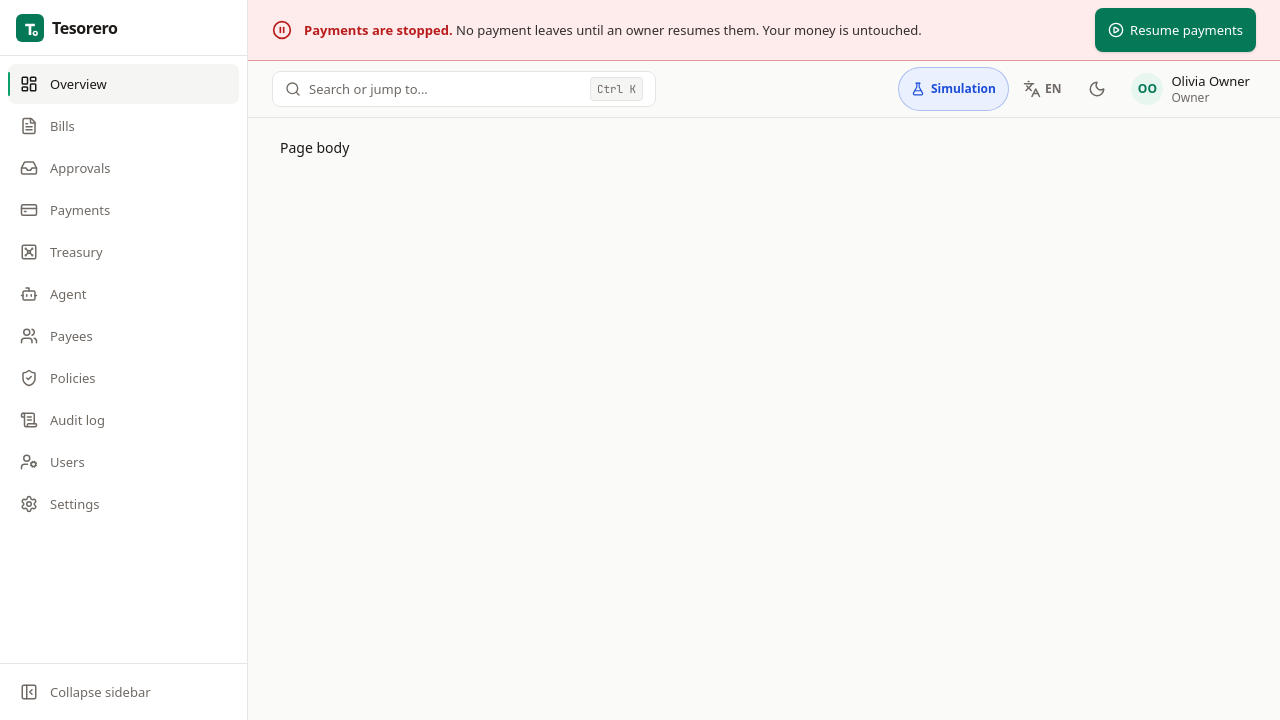
payments stopped banner › is shown everywhere while payments are stopped, with Resume for the Owner
Expected: the message with test id "payments-stopped-banner" shows "Payments are stopped.", [304, 21, 453, 39]
What coordinates should you click on to do the following:
click the button with test id "banner-resume-button"
I would click on:
 (1176, 30)
Its box is [1095, 8, 1256, 52].
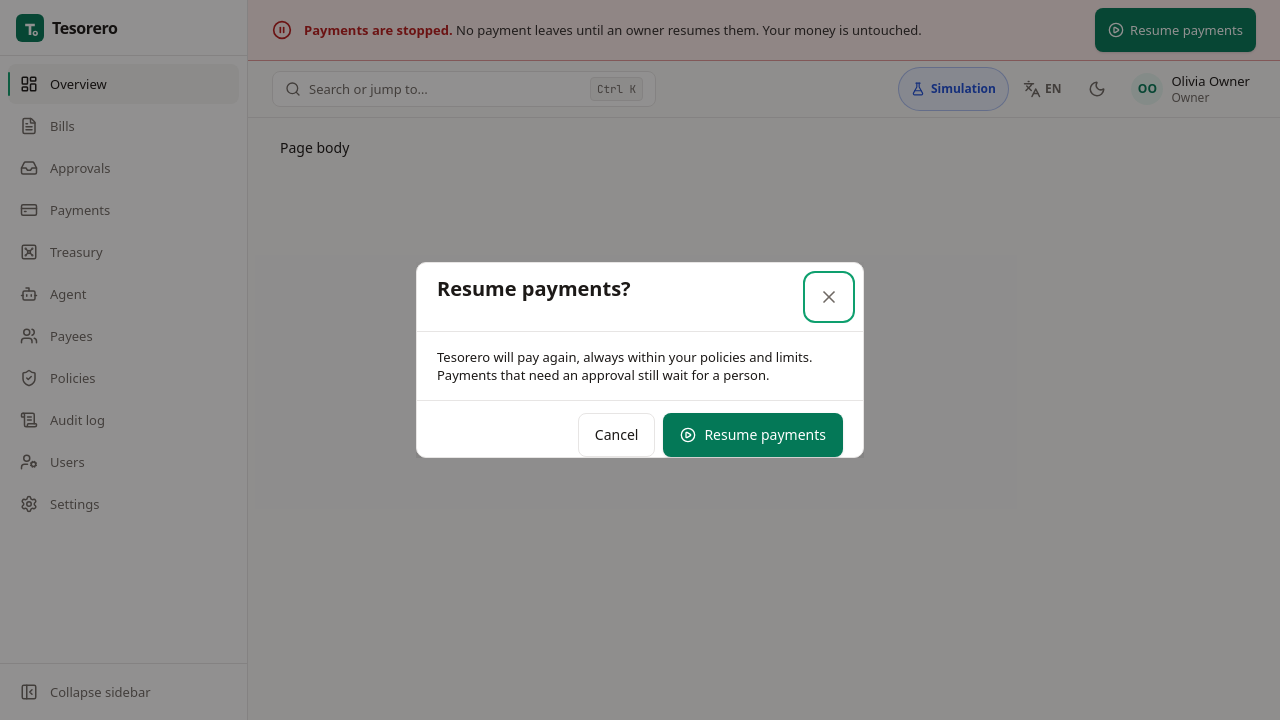
What coordinates should you click on to do the following:
click the button with test id "resume-payments-dialog-confirm"
I would click on:
 (753, 435)
Its box is [663, 413, 843, 457].
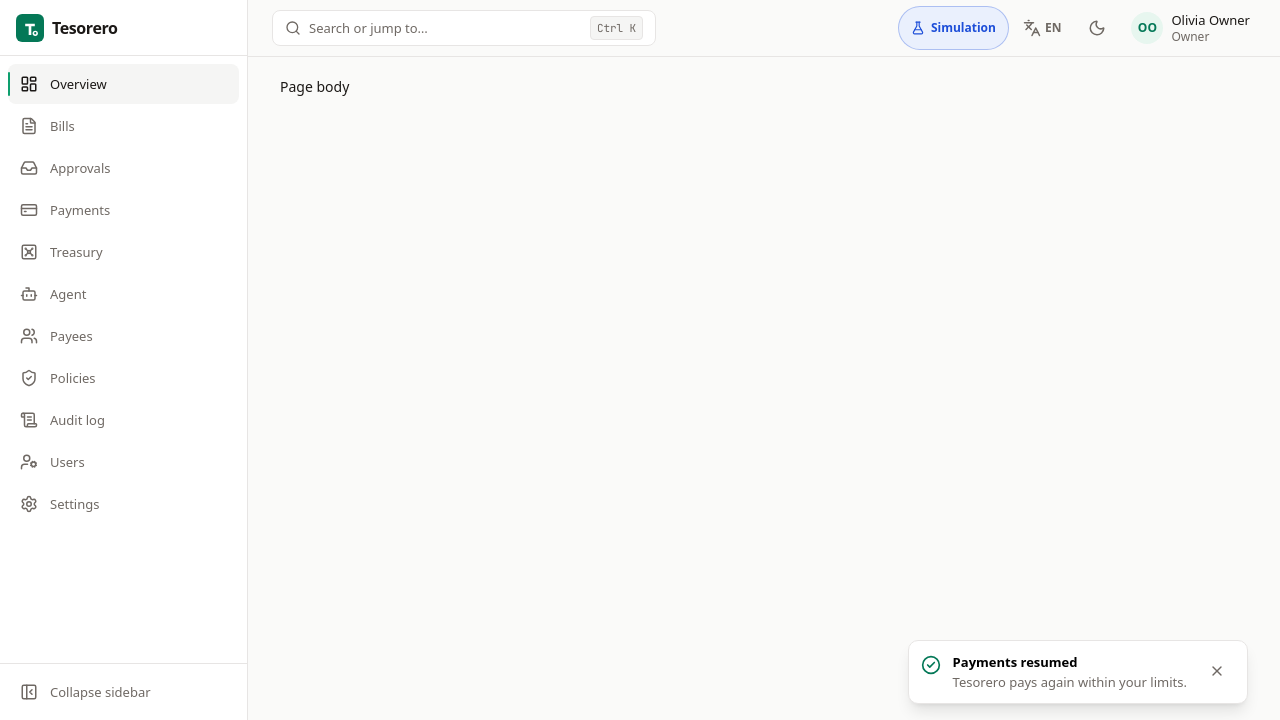
Result: the message with test id "payments-stopped-banner" is gone
